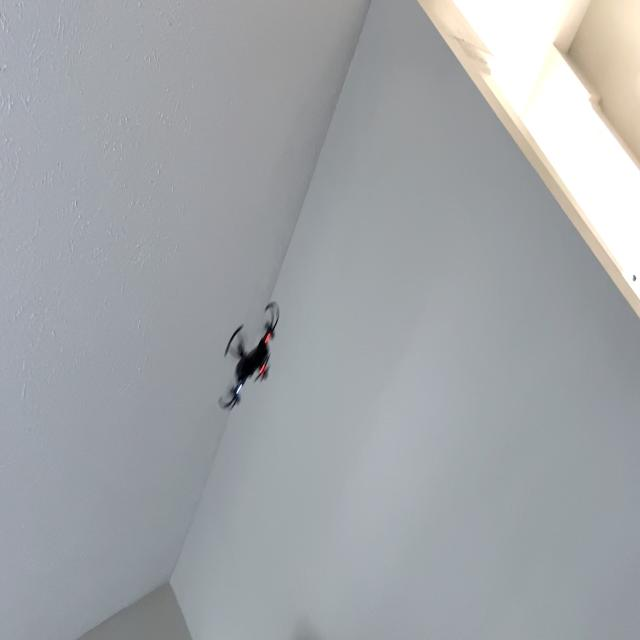drone: (214, 298, 284, 419)
